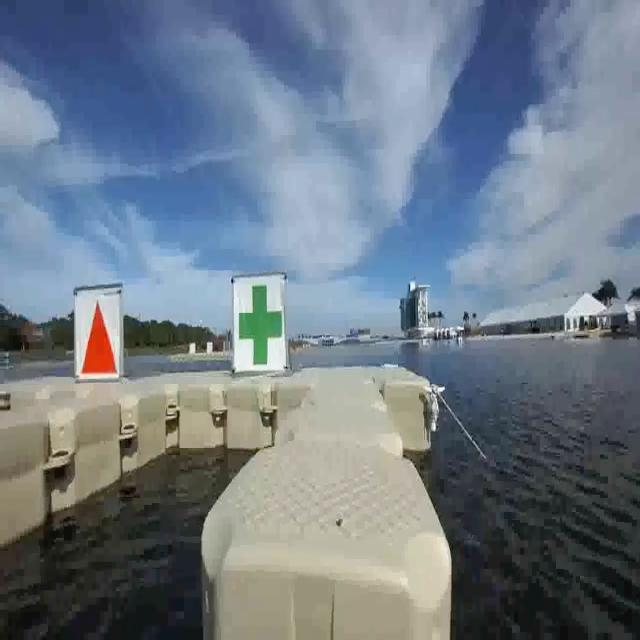blue-cross: (229, 276, 286, 368)
red-dot: (78, 292, 122, 374)
